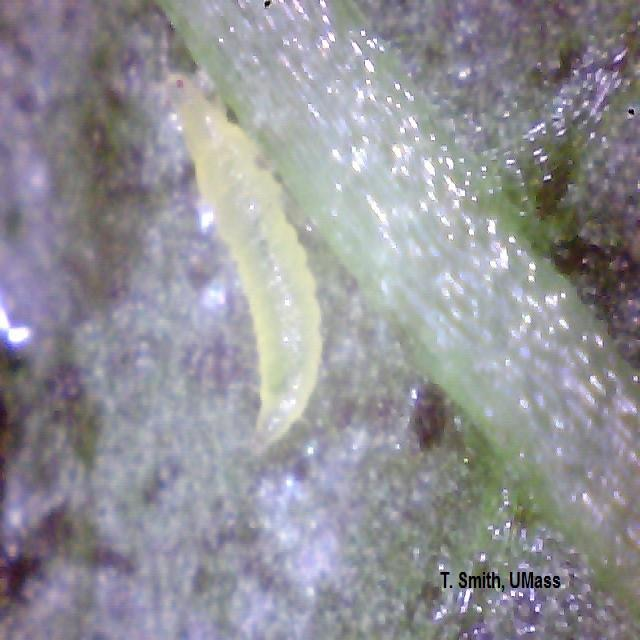Thrip-Larva-: (168, 74, 336, 464)
